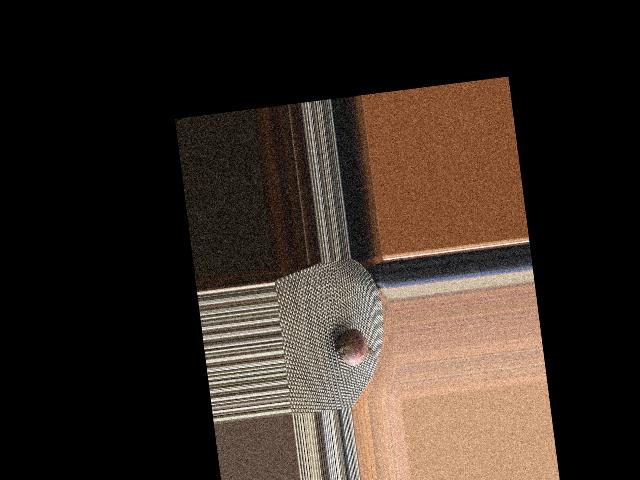beet: (330, 320, 381, 374)
